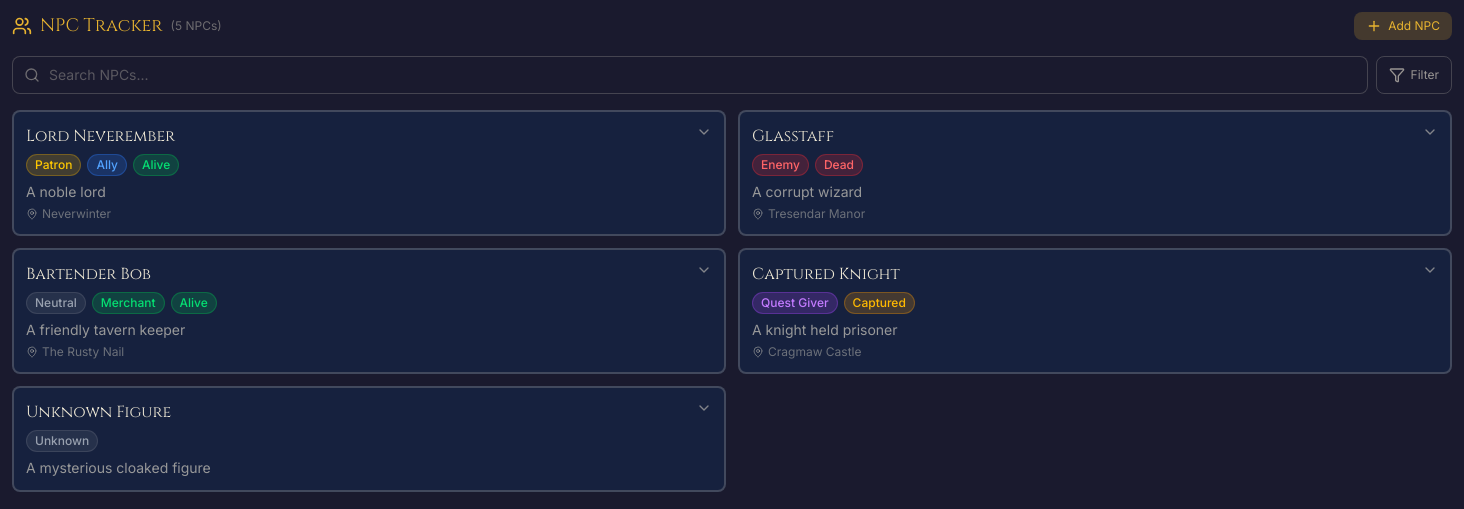
Scenario: NPCTracker › should search NPCs by name
Type "Lord" into the field labelled "Search NPCs" at coordinates (690, 75), box [12, 56, 1368, 94]
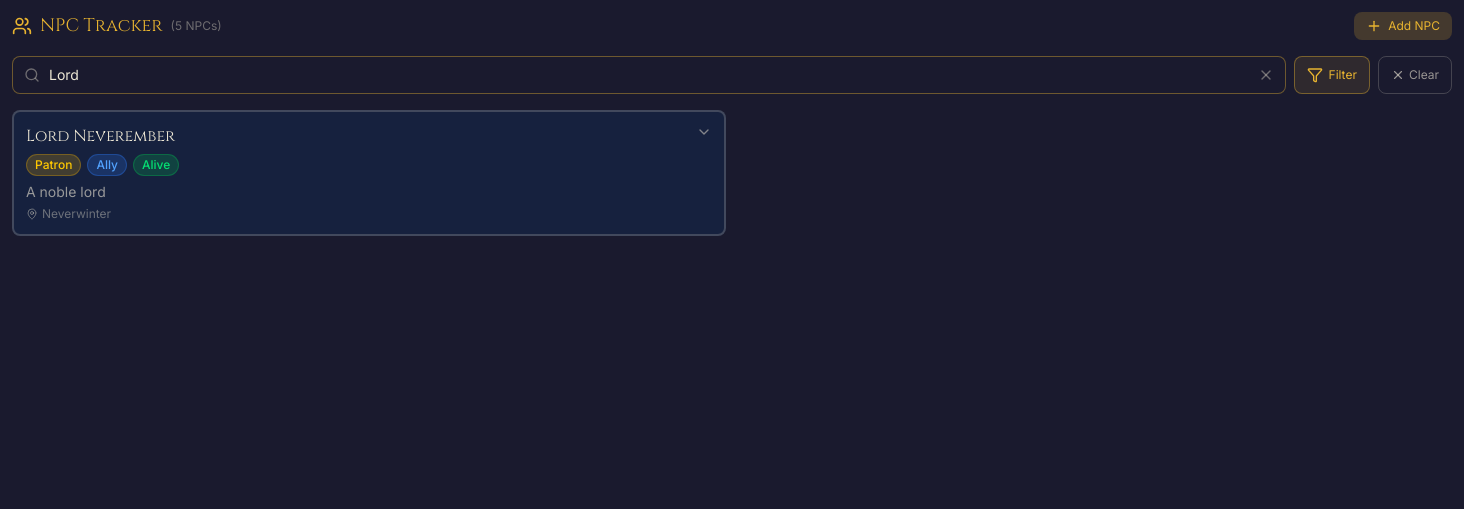
Expected: the heading "Lord Neverember" is shown, [26, 125, 175, 147]
Now the button "Glasstaff" is gone
Now the button "Bartender Bob" is gone
